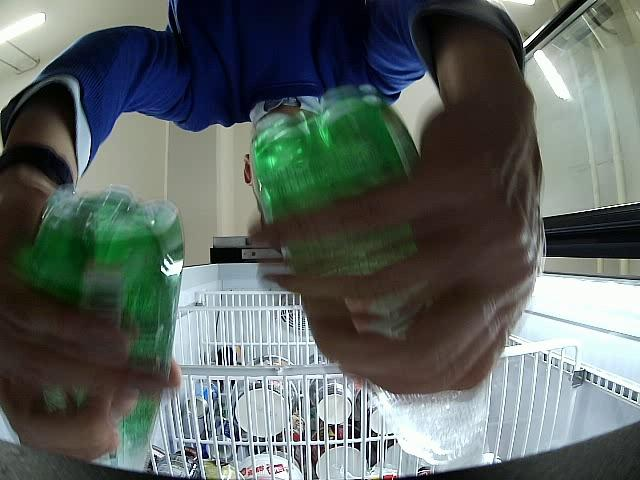00_hand: (252, 65, 544, 394), (1, 182, 180, 461)
18_trevi: (252, 85, 501, 472), (20, 190, 184, 467)
